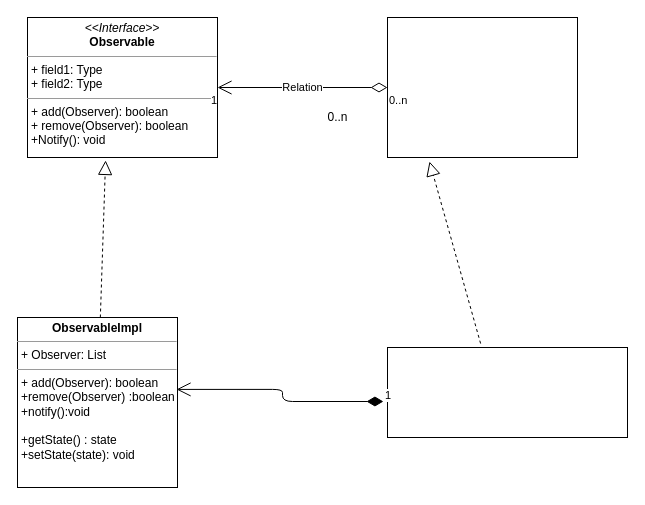
This 645x505 diagram has some shape labels left out. Each missing label, with the box of its shape:
<<Interface>> Observer + field2: Type + updateState(): void: (386, 16, 578, 158)
ConcreteObserver + observableImpl: ObservableImpl + updateState(): void: (386, 346, 628, 438)
